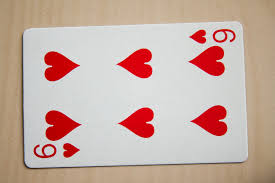six of hearts: (22, 20, 247, 168)
